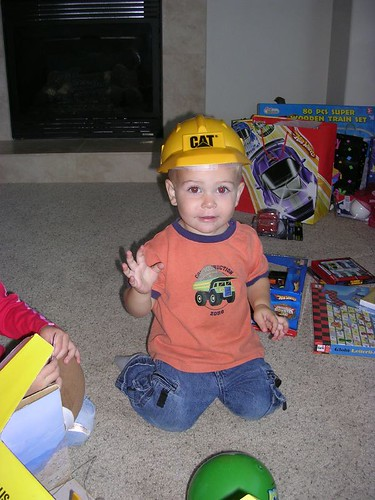person hardhat: (122, 115, 294, 428)
